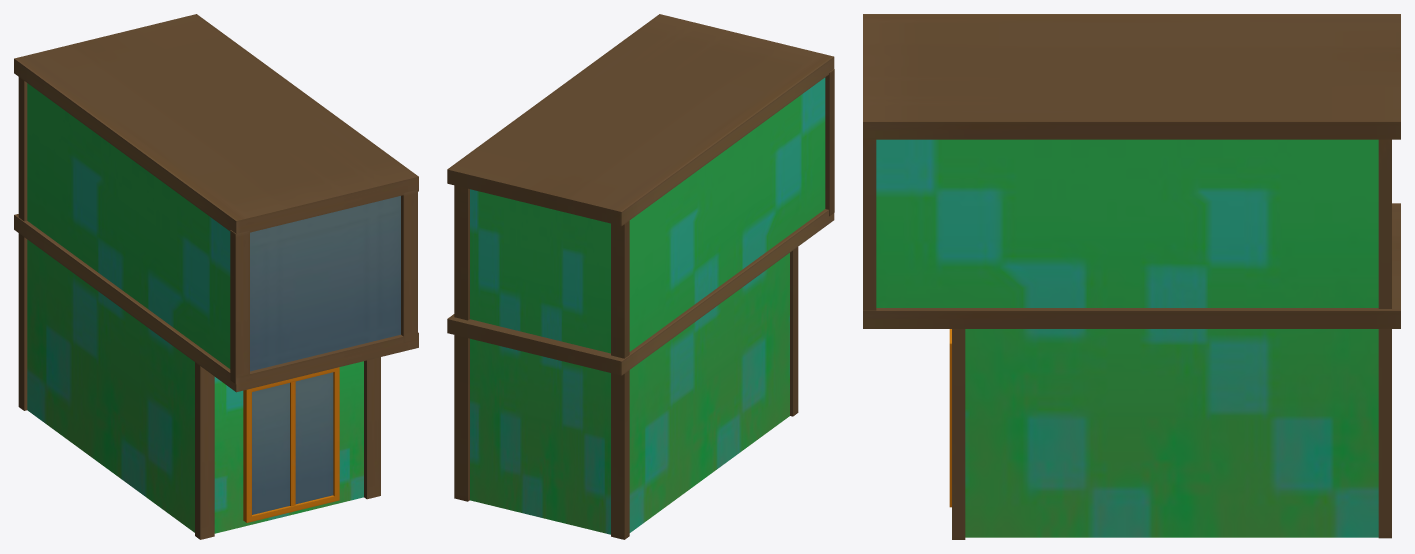
Rendered from nha_xanh_nau.fbx.
The picture shows the model from 3 angles, left to right: view 1: azimuth 30°, elevation 25°; view 2: azimuth 150°, elevation 25°; view 3: azimuth 270°, elevation 25°; orthographic projection. The views are drawn at different scales.
Parts seen in each view (by area): view 1: nha_xanh_nau; view 2: nha_xanh_nau; view 3: nha_xanh_nau.
Boxes of the visible parts, x1,y1,x2,y2 form: nha_xanh_nau: (14, 14, 418, 539); nha_xanh_nau: (447, 14, 834, 539); nha_xanh_nau: (863, 14, 1400, 539).
Size of the model in its own units: 604 by 1090 by 1269.
